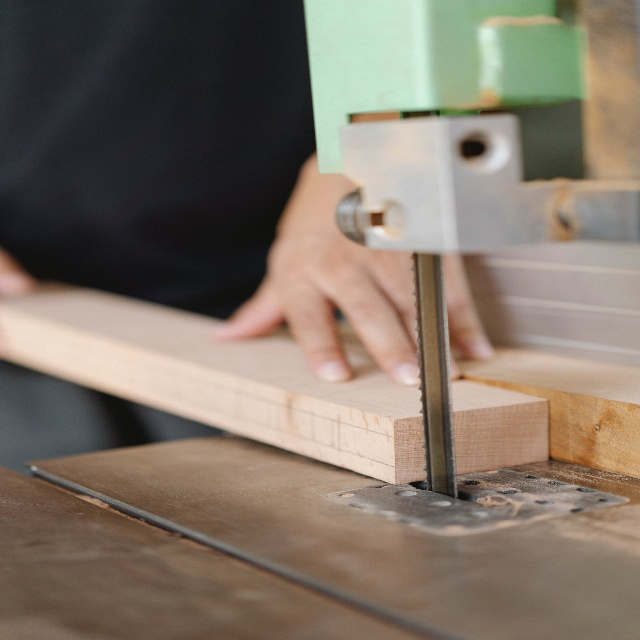Sin_guantes: (210, 148, 494, 386)
